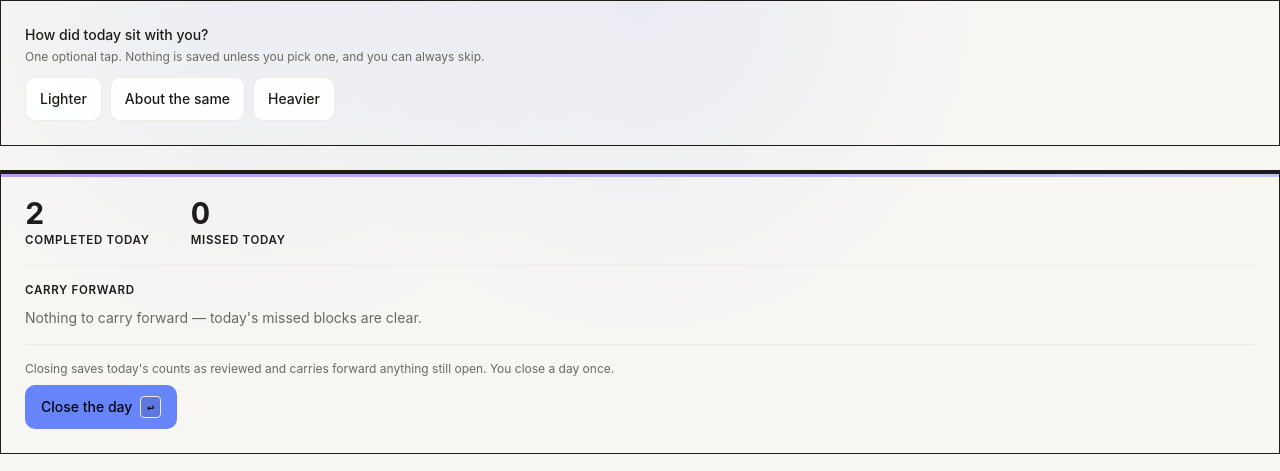
CloseMoment — purpose-gauge check-in offer › records the tapped response exactly once and dismisses the offer in-view
Click the button with test id "close-moment-purpose-gauge-heavier": {"x": 294, "y": 99} 253,77 -> 335,121
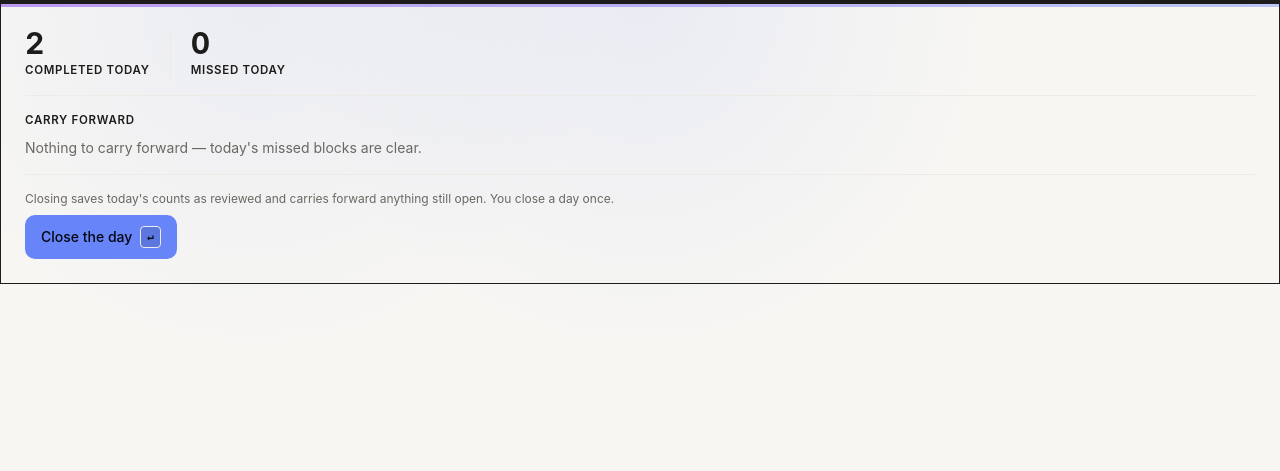
Check: the element with test id "close-moment-purpose-gauge" is gone
